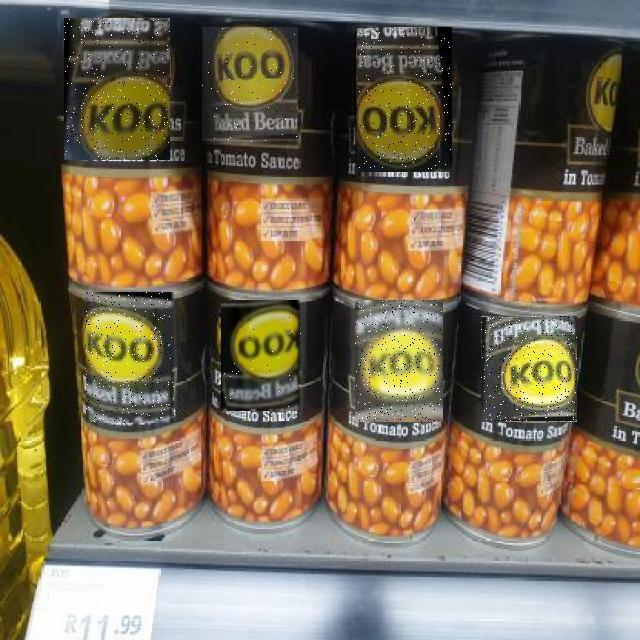Beans: (64, 18, 170, 160), (356, 28, 452, 176), (86, 292, 174, 423), (202, 28, 298, 144), (355, 300, 443, 422), (481, 316, 577, 422), (222, 300, 302, 411)
